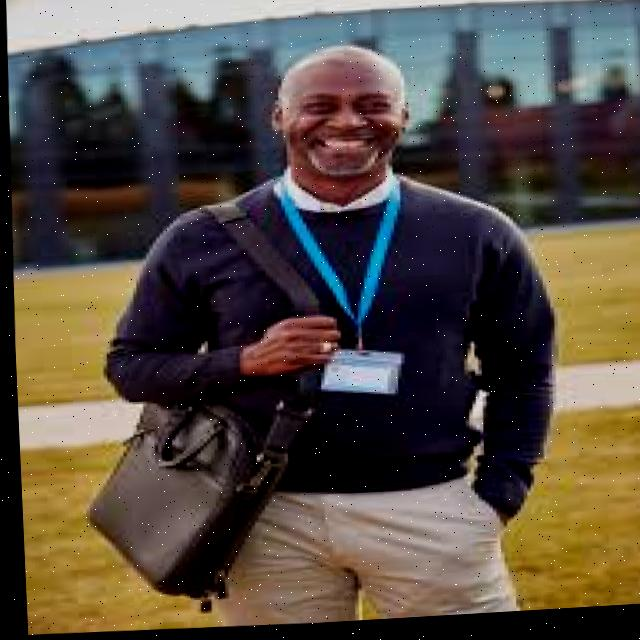id_card: (263, 176, 428, 413)
